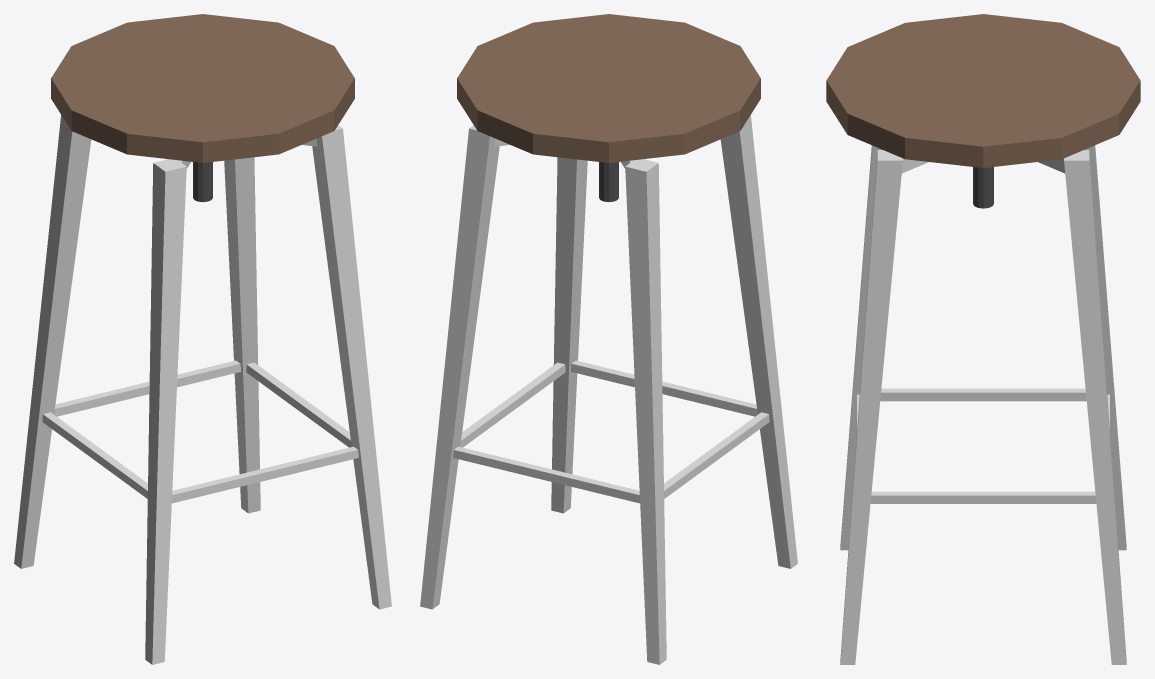
The model's file is Chair_03_C1.fbx.
3 renders of one model, left to right at view 1: azimuth 30°, elevation 25°; view 2: azimuth 150°, elevation 25°; view 3: azimuth 270°, elevation 25°, orthographic. The views are drawn at different scales.
Visible parts, largest first — view 1: Chair_03_C1; view 2: Chair_03_C1; view 3: Chair_03_C1.
Boxes of the visible parts, x1,y1,x2,y2 form: Chair_03_C1: [14, 14, 391, 664]; Chair_03_C1: [420, 14, 797, 664]; Chair_03_C1: [826, 14, 1140, 664].
Bounding box in the file's own units: 37.05 × 68.24 × 37.05.
